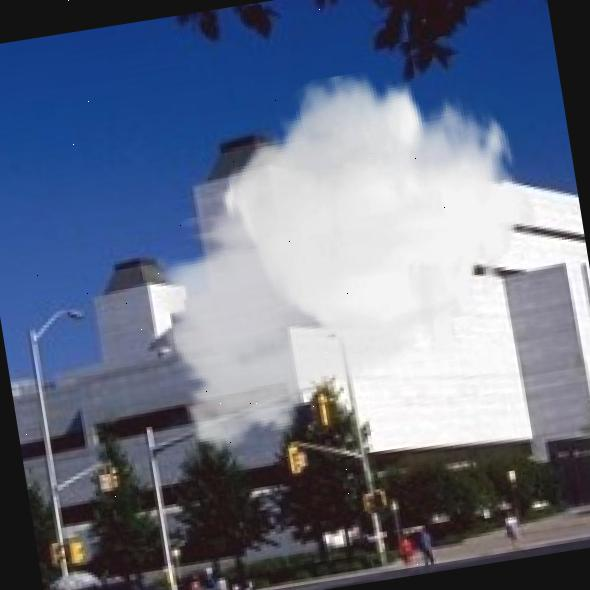smoke: (113, 48, 568, 472)
